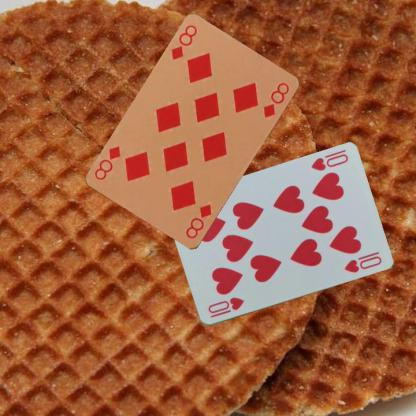10h: (205, 295, 245, 320), (308, 151, 350, 173)
8d: (183, 202, 216, 240), (168, 22, 198, 62)
